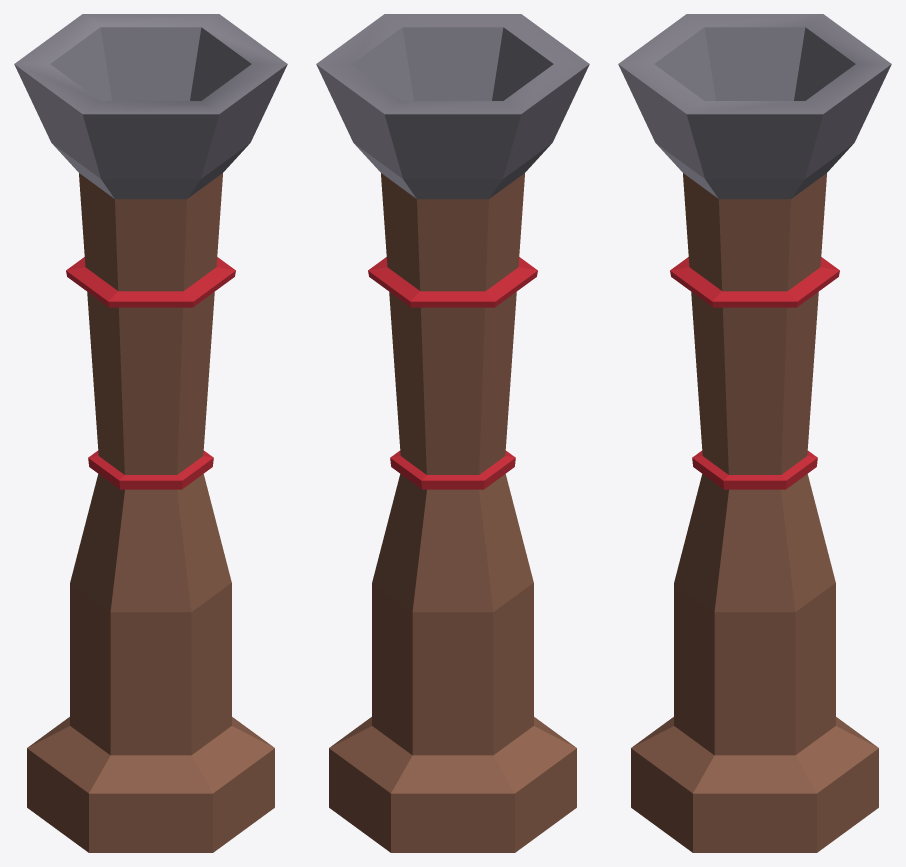
Rendered from NewTorchModel.fbx.
The picture shows the model from 3 angles, left to right: view 1: azimuth 30°, elevation 25°; view 2: azimuth 150°, elevation 25°; view 3: azimuth 270°, elevation 25°; orthographic projection.
Visible parts, largest first — view 1: Cylinder, Cylinder.001; view 2: Cylinder, Cylinder.001; view 3: Cylinder, Cylinder.001.
Boxes of the visible parts, <box> form: Cylinder: <box>27,173,274,852</box>; Cylinder.001: <box>14,14,287,489</box>; Cylinder: <box>329,173,576,852</box>; Cylinder.001: <box>316,14,589,489</box>; Cylinder: <box>631,173,878,852</box>; Cylinder.001: <box>618,14,891,489</box>.
Bounding box in the file's own units: 85.61 × 296 × 98.86.
Materials: 2 (2 with a texture image).
